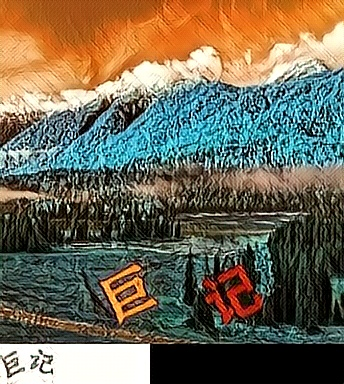BCC7: (202, 262, 264, 326)
BEDE: (97, 261, 159, 325)
